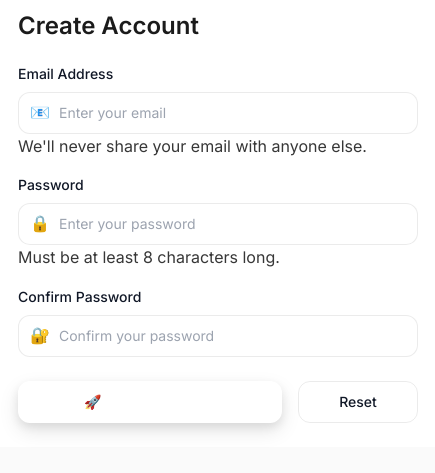
Test: Form Integration › Form Validation › shows error for mismatched passwords
Type "password123" into the password field labelled "Password" at {"x": 218, "y": 224}, box [18,203,418,245]
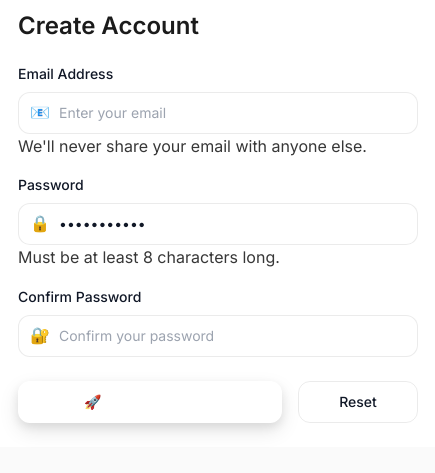
Type "different123" into the password field labelled "Confirm Password" at {"x": 218, "y": 336}, box [18,315,418,357]
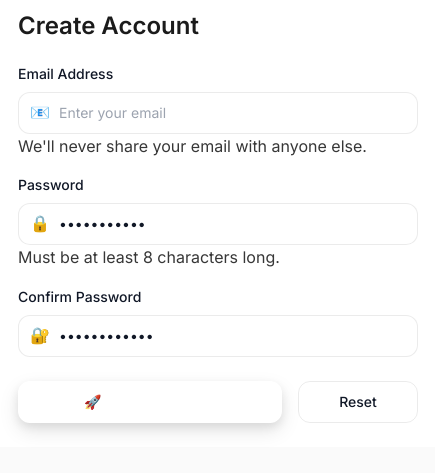
Click the button "🚀 Create Account" at {"x": 150, "y": 402}, box [18,381,282,423]
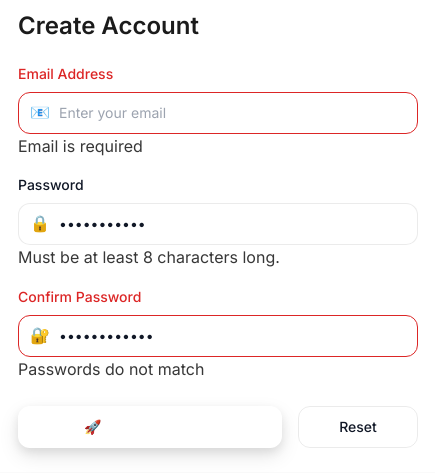
Expected: the text "Passwords do not match" is shown, [18,359,204,379]
